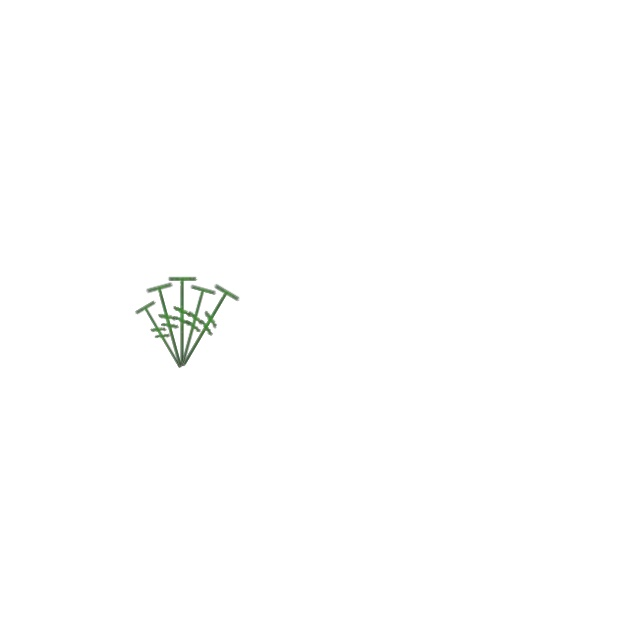fan: (168, 281, 245, 378), (144, 279, 199, 373), (133, 297, 195, 376), (168, 283, 221, 373), (165, 274, 201, 369)
